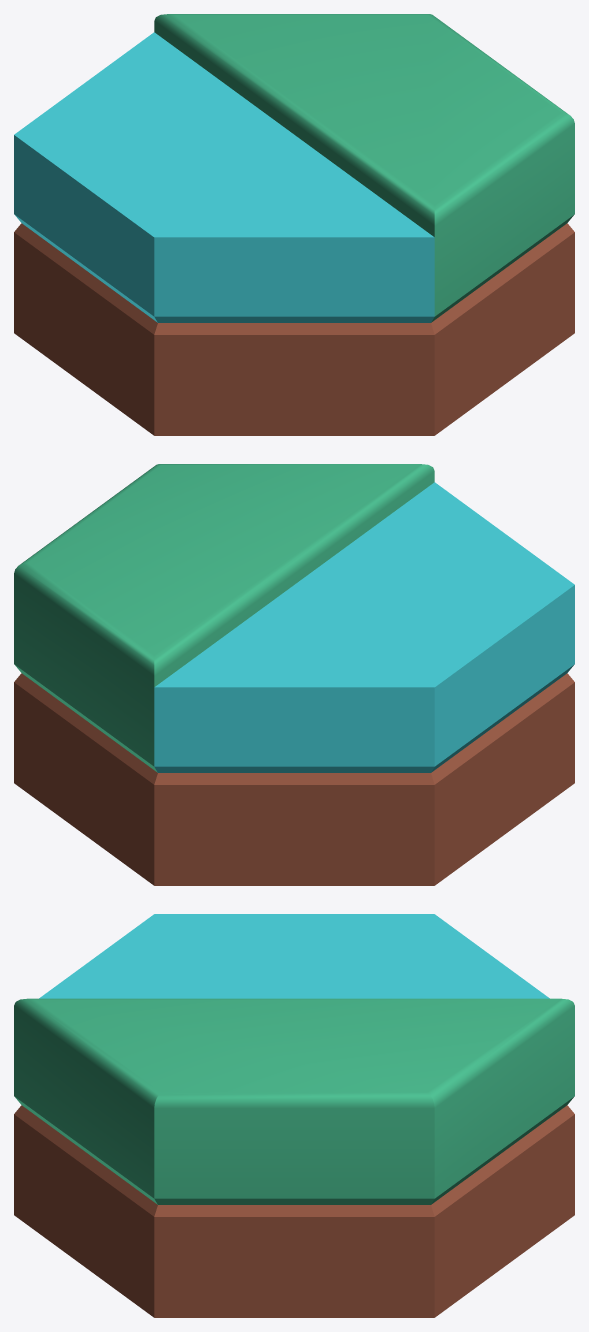
Rendered from hex_forest_waterB_detail.glb.
3 views of the same model, one above another, from view 1: azimuth 30°, elevation 25°; view 2: azimuth 150°, elevation 25°; view 3: azimuth 270°, elevation 25° (orthographic).
Parts seen in each view (by area): view 1: hex_forest_waterB_detail; view 2: hex_forest_waterB_detail; view 3: hex_forest_waterB_detail.
Part boxes in pixels (x1,y1,x2,y2): hex_forest_waterB_detail: (14,14,574,435); hex_forest_waterB_detail: (14,464,574,885); hex_forest_waterB_detail: (14,914,574,1317).
Bounding box in the file's own units: 3.82 × 1.91 × 4.41.
